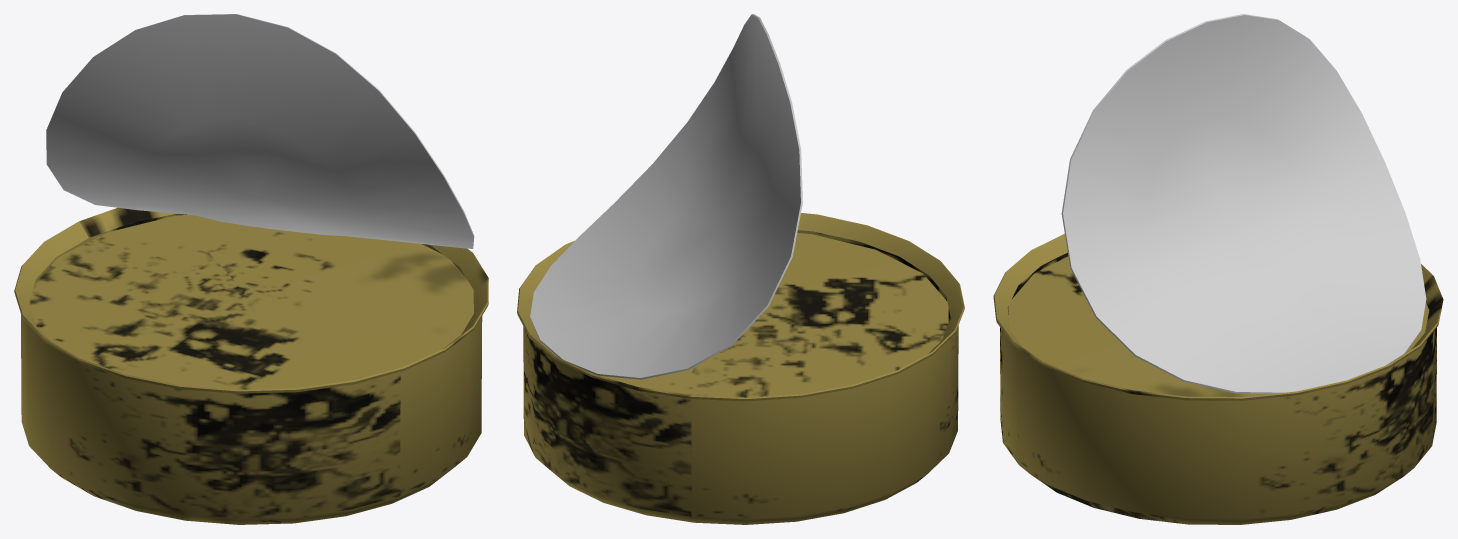
File: TunaCan_open.fbx
The picture shows the model from 3 angles, left to right: view 1: azimuth 30°, elevation 25°; view 2: azimuth 150°, elevation 25°; view 3: azimuth 270°, elevation 25°; orthographic projection. The views are drawn at different scales.
Parts seen in each view (by area): view 1: cap, Cylinder005, Cylinder004; view 2: Cylinder005, cap, Cylinder004; view 3: cap, Cylinder005, Cylinder004.
Part boxes in pixels (x1,y1,x2,y2): cap: [46, 14, 474, 248]; Cylinder005: [14, 207, 488, 524]; Cylinder004: [30, 215, 473, 389]; Cylinder005: [517, 213, 964, 524]; cap: [530, 14, 802, 379]; Cylinder004: [531, 233, 948, 397]; cap: [1061, 14, 1426, 394]; Cylinder005: [993, 233, 1443, 524]; Cylinder004: [1008, 256, 1429, 396].
Size of the model in its own units: 35.17 by 35.07 by 35.2.
